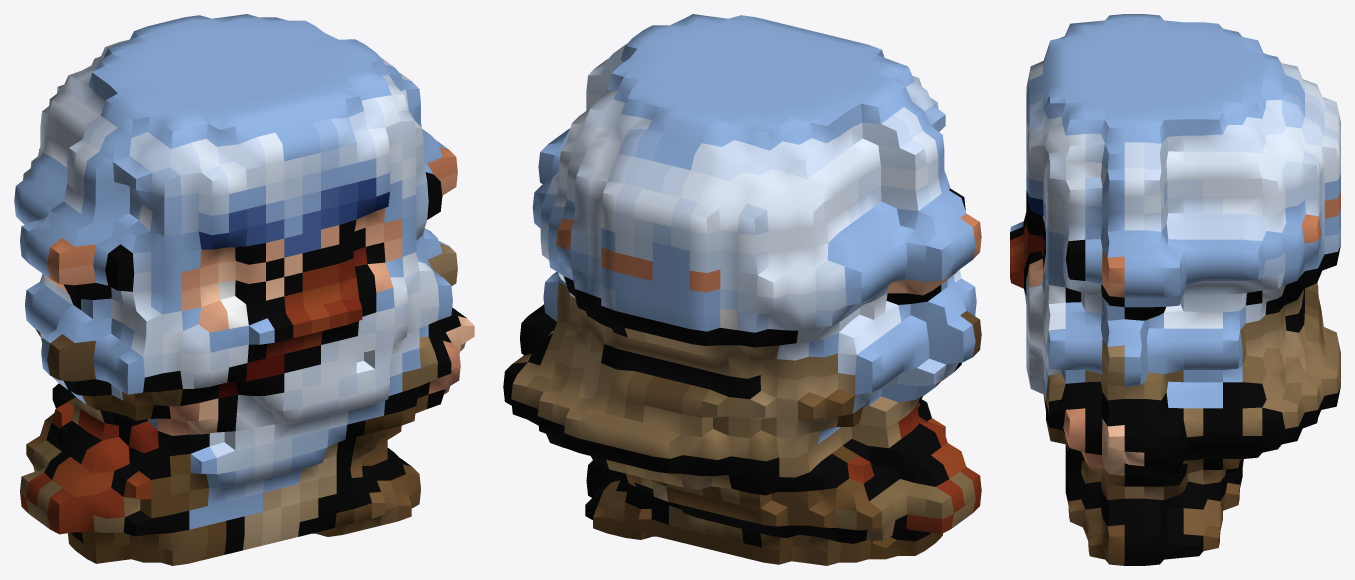
File: Icon_021_01.obj
The picture shows the model from 3 angles, left to right: view 1: azimuth 30°, elevation 25°; view 2: azimuth 150°, elevation 25°; view 3: azimuth 270°, elevation 25°; orthographic projection. The views are drawn at different scales.
Size of the model in its own units: 2.3 by 2.4 by 1.68.
Materials: 1 (1 with a texture image).
